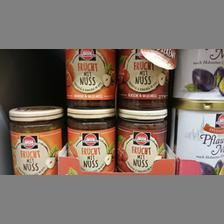Marmelade: (8, 104, 64, 174), (60, 105, 116, 171), (114, 106, 168, 170), (117, 48, 172, 108), (64, 48, 116, 108)
